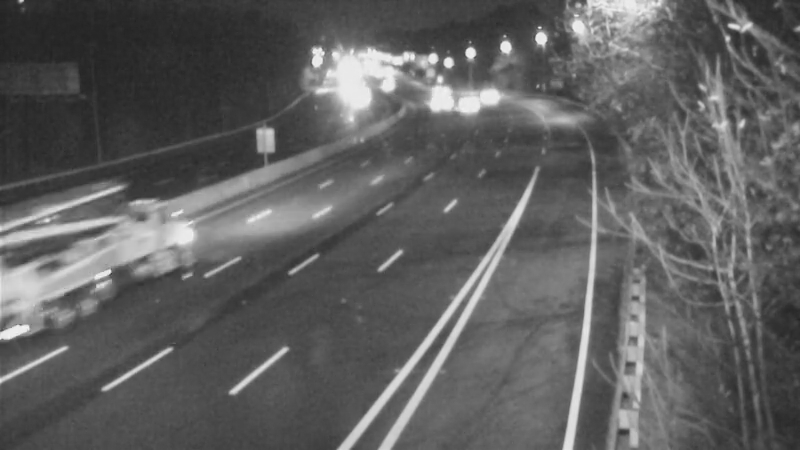vehicle: (437, 72, 487, 122), (411, 75, 461, 125), (463, 63, 513, 113), (403, 63, 453, 113)
